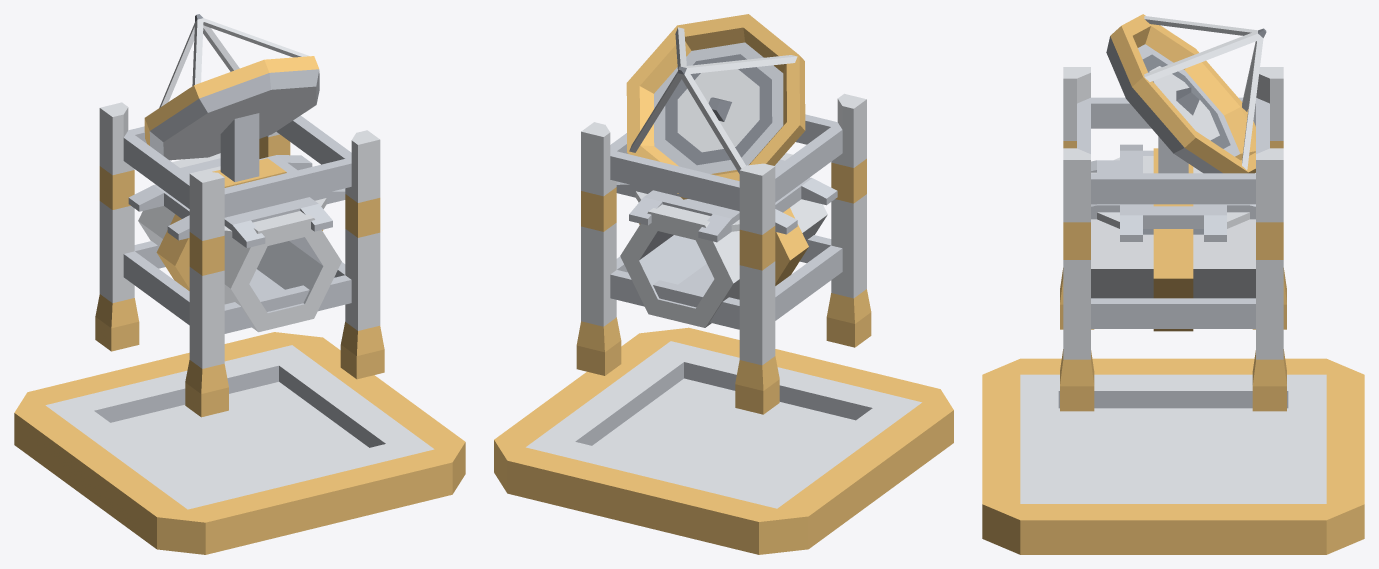
File: building_forward_relay.glb
3 renders of one model, left to right at view 1: azimuth 30°, elevation 25°; view 2: azimuth 150°, elevation 25°; view 3: azimuth 270°, elevation 25°, orthographic. The views are drawn at different scales.
Parts seen in each view (by area): view 1: platform_small.001, supports_high, satelliteDish_detailed, pipe_ring; view 2: platform_small.001, supports_high, satelliteDish_detailed, pipe_ring; view 3: platform_small.001, supports_high, satelliteDish_detailed, pipe_ring.
Part boxes in pixels (x1,y1,x2,y2): platform_small.001: (14,332,465,554); supports_high: (95,102,384,417); satelliteDish_detailed: (128,14,345,247); pipe_ring: (138,153,341,332); platform_small.001: (494,327,953,554); supports_high: (576,93,871,414); satelliteDish_detailed: (616,14,837,242); pipe_ring: (620,153,827,327); platform_small.001: (982,358,1364,554); supports_high: (1060,67,1286,411); satelliteDish_detailed: (1091,14,1266,241); pipe_ring: (1091,148,1255,331).
Bounding box in the file's own units: 2.33 × 3.01 × 2.33.
